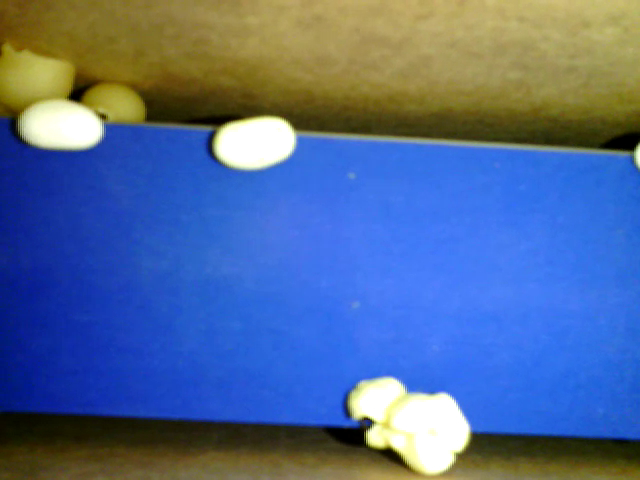shell: (1, 41, 75, 112), (80, 81, 145, 121)
